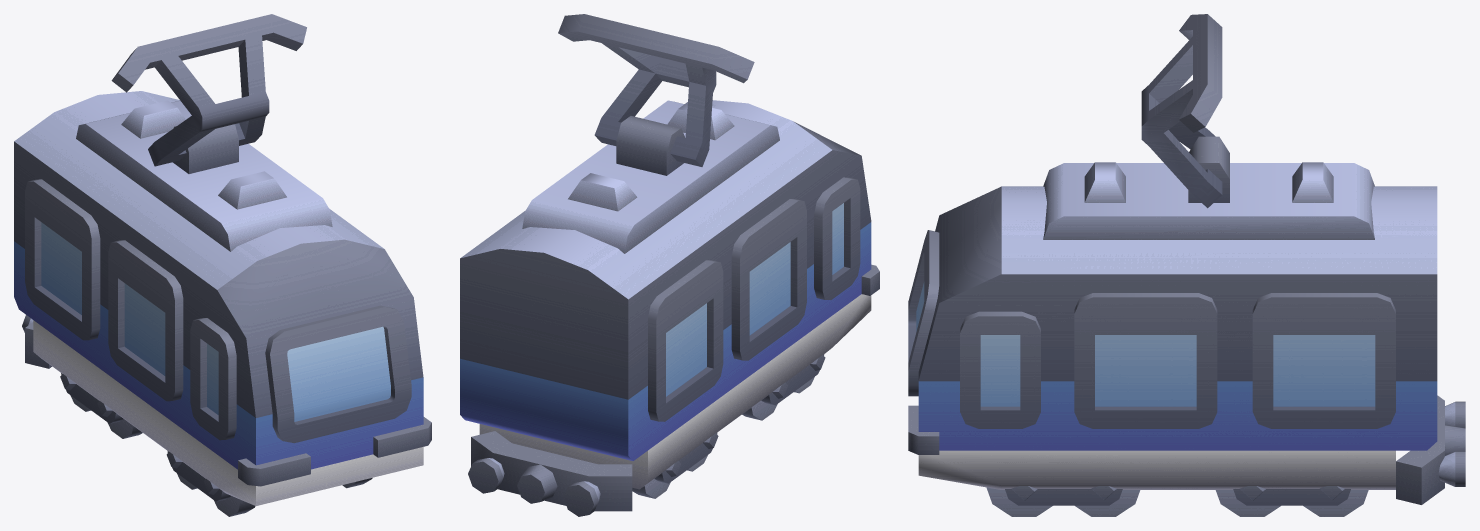
Rendered from tram.glb.
The picture shows the model from 3 angles, left to right: view 1: azimuth 30°, elevation 25°; view 2: azimuth 150°, elevation 25°; view 3: azimuth 270°, elevation 25°; orthographic projection. The views are drawn at different scales.
Visible parts, largest first — view 1: train-tram-modern, collector, wheels-front, wheels-back; view 2: train-tram-modern, collector, wheels-back, wheels-front; view 3: train-tram-modern, collector, wheels-front, wheels-back.
Boxes of the visible parts, <box> form: train-tram-modern: <box>14,91,431,505</box>; collector: <box>111,14,306,166</box>; wheels-front: <box>166,451,372,516</box>; wheels-back: <box>60,373,142,438</box>; train-tram-modern: <box>460,100,879,516</box>; collector: <box>558,14,754,166</box>; wheels-back: <box>632,433,718,498</box>; wheels-front: <box>742,354,825,420</box>; train-tram-modern: <box>908,136,1465,504</box>; collector: <box>1141,14,1222,208</box>; wheels-front: <box>986,486,1140,516</box>; wheels-back: <box>1215,486,1368,516</box>.
Size of the model in its own units: 1.13 by 2.3 by 2.69.
1 material, 1 textured.
